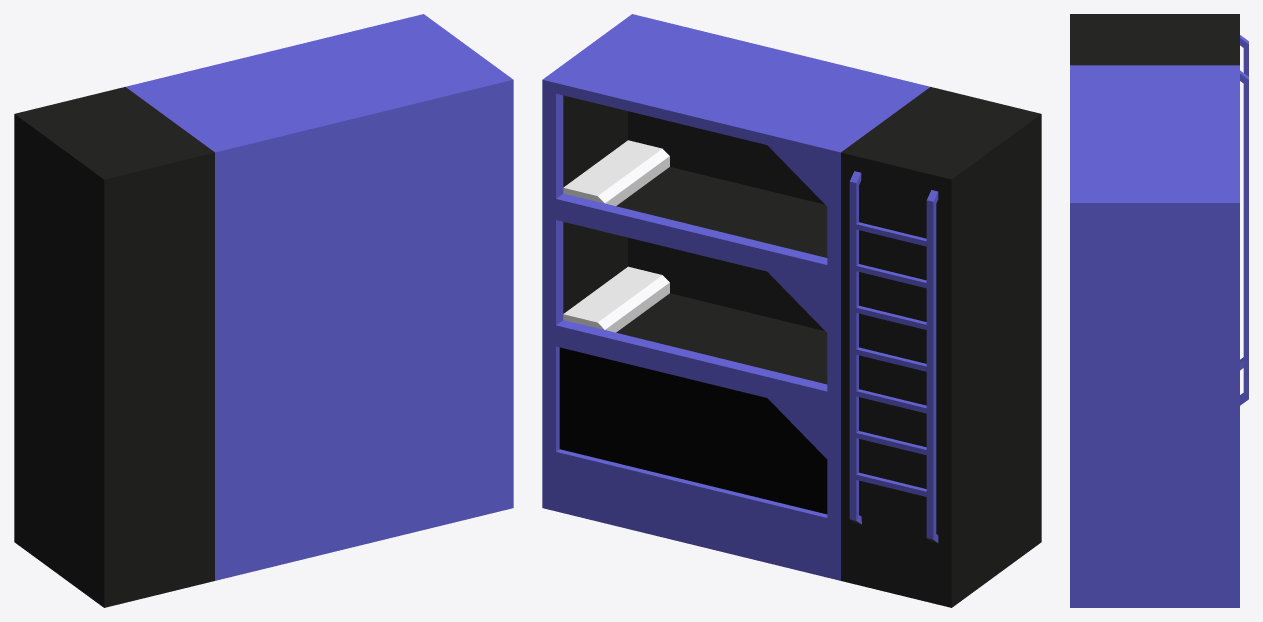
File: Bed_2.3.fbx
3 renders of one model, left to right at view 1: azimuth 30°, elevation 25°; view 2: azimuth 150°, elevation 25°; view 3: azimuth 270°, elevation 25°, orthographic. The views are drawn at different scales.
Visible parts, largest first — view 1: beds.010; view 2: beds.010; view 3: beds.010.
Part boxes in pixels (x1,y1,x2,y2): beds.010: (14,14,513,607); beds.010: (542,14,1041,607); beds.010: (1070,14,1248,607).
Bounding box in the file's own units: 5 × 2 × 5.
